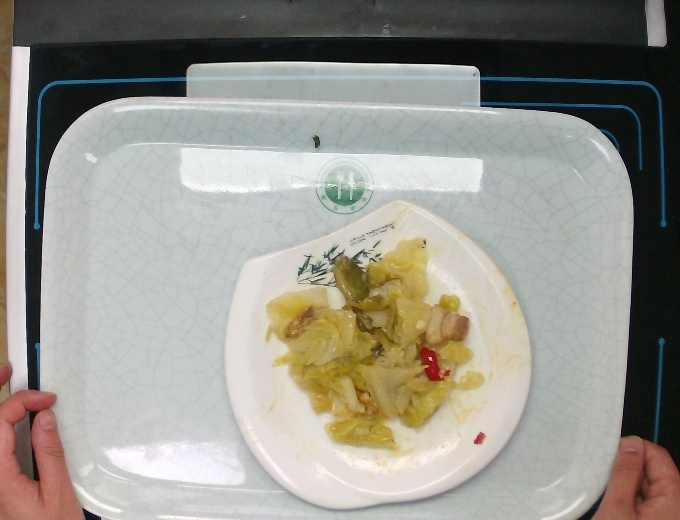JYsf-Mian_Pan: (213, 186, 545, 520)
